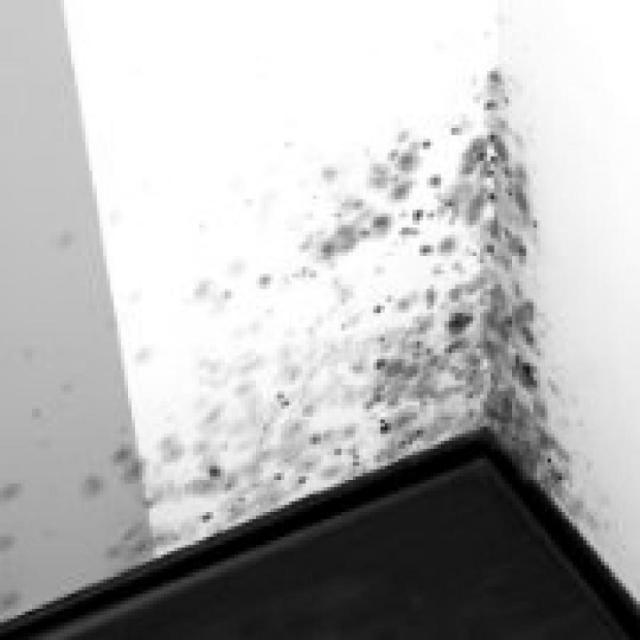stain marks: (39, 35, 615, 600)
